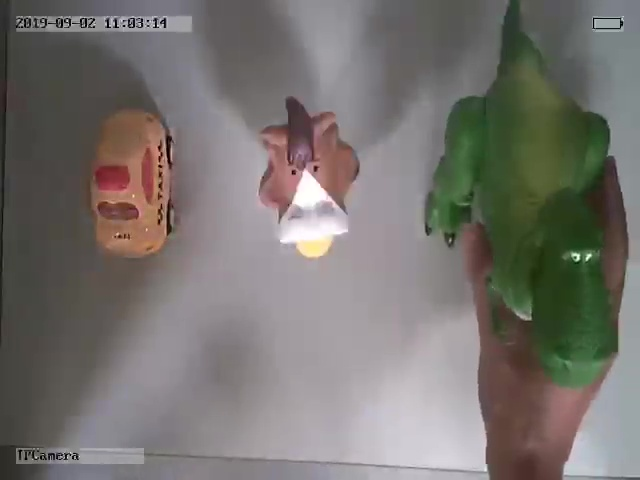car: (89, 110, 177, 255)
horse: (257, 94, 361, 257)
rex: (424, 11, 620, 388)
